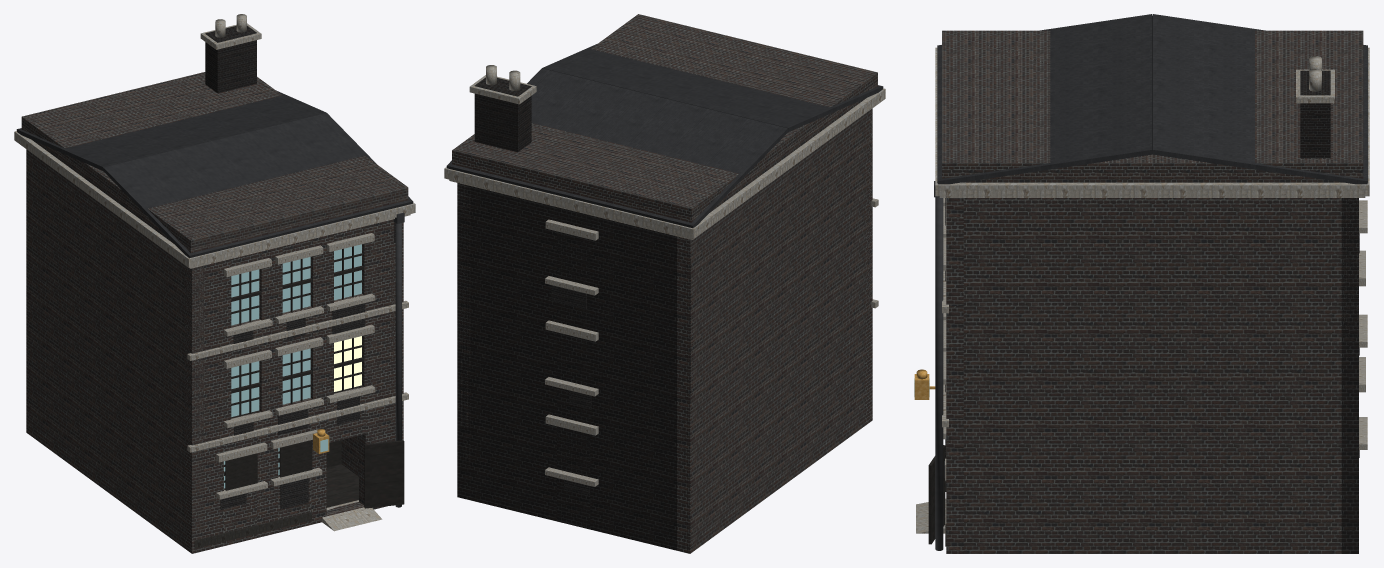
Rendered from prop_ashmoor_speakeasy.glb.
The picture shows the model from 3 angles, left to right: view 1: azimuth 30°, elevation 25°; view 2: azimuth 150°, elevation 25°; view 3: azimuth 270°, elevation 25°; orthographic projection. The views are drawn at different scales.
Visible parts, largest first — view 1: building_ashmoor_speakeasy; view 2: building_ashmoor_speakeasy; view 3: building_ashmoor_speakeasy.
Boxes of the visible parts, bbox=[...] form: building_ashmoor_speakeasy: bbox=[14, 14, 415, 553]; building_ashmoor_speakeasy: bbox=[444, 14, 885, 553]; building_ashmoor_speakeasy: bbox=[914, 14, 1369, 553].
Bounding box in the file's own units: 7.5 × 12.05 × 10.49.
11 materials, 11 textured.
